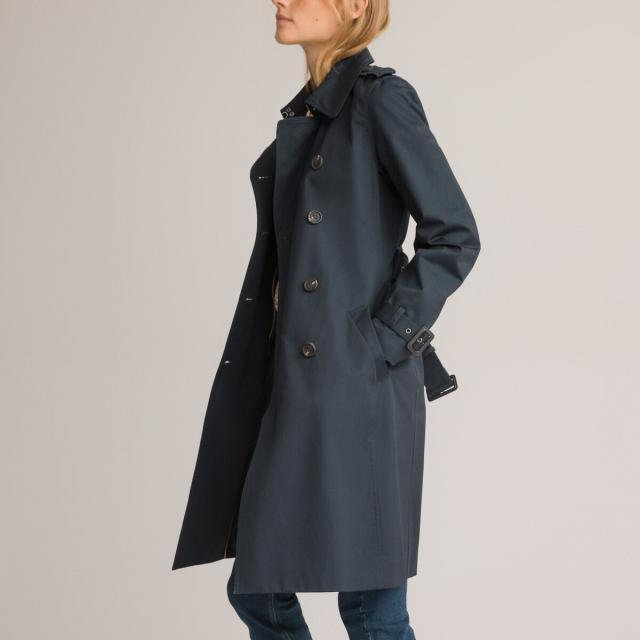coat: (168, 46, 484, 597)
trousers: (224, 556, 420, 640)
